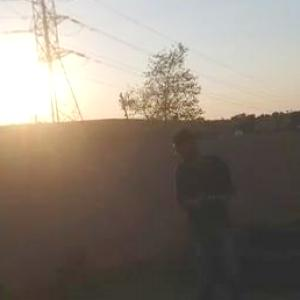follow: (169, 122, 245, 299)
